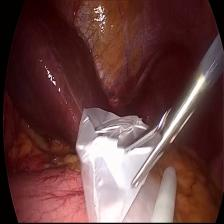Grasper: (124, 104, 189, 190)
Specimen Bag: (75, 110, 178, 224)
